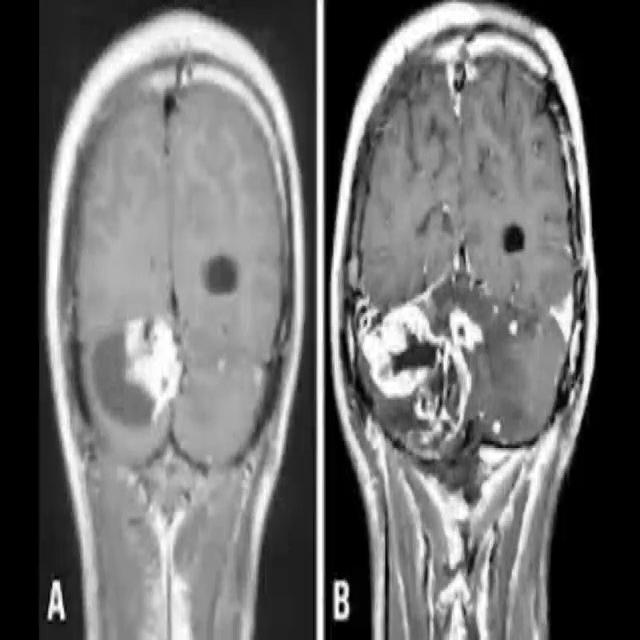tumor: (477, 186, 544, 291)
